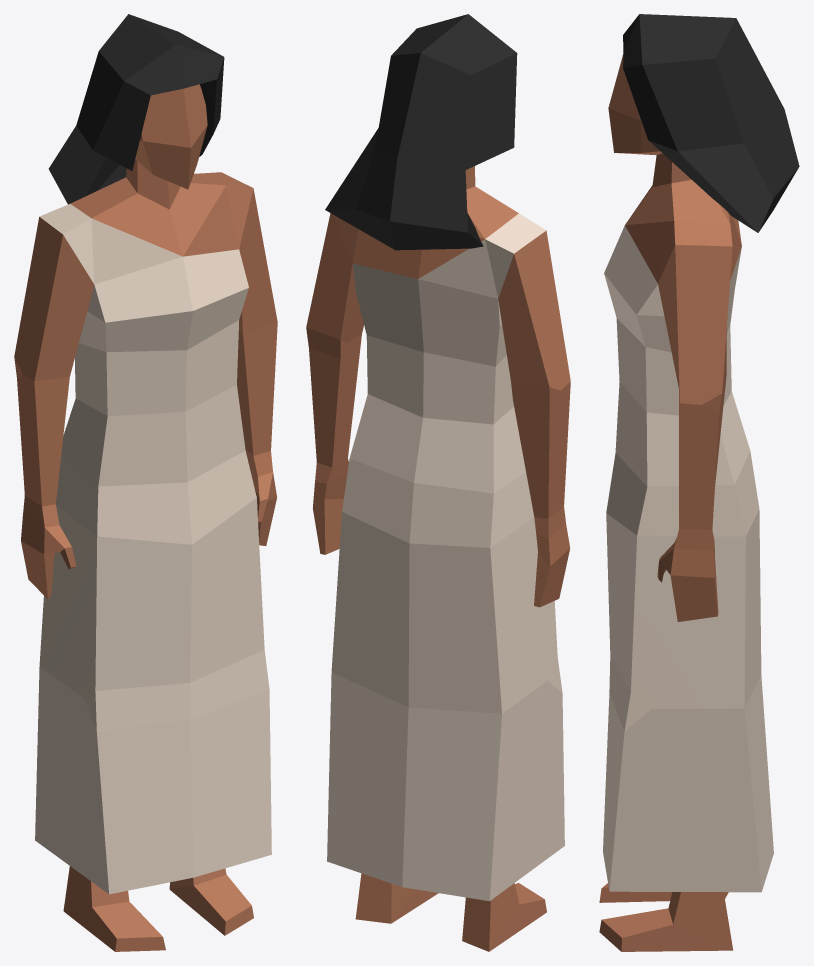
The model's file is woman-egypt-worker.glb.
3 renders of one model, left to right at view 1: azimuth 30°, elevation 25°; view 2: azimuth 150°, elevation 25°; view 3: azimuth 270°, elevation 25°, orthographic. The views are drawn at different scales.
Visible parts, largest first — view 1: woman-egypt-worker; view 2: woman-egypt-worker; view 3: woman-egypt-worker.
Boxes of the visible parts, box(x1,y1,x2,y2) form: woman-egypt-worker: box(14, 14, 277, 951); woman-egypt-worker: box(306, 14, 570, 951); woman-egypt-worker: box(599, 14, 799, 951).
Size of the model in its own units: 0.5287 by 1.83 by 0.3674.
Materials: 1 (1 with a texture image).
